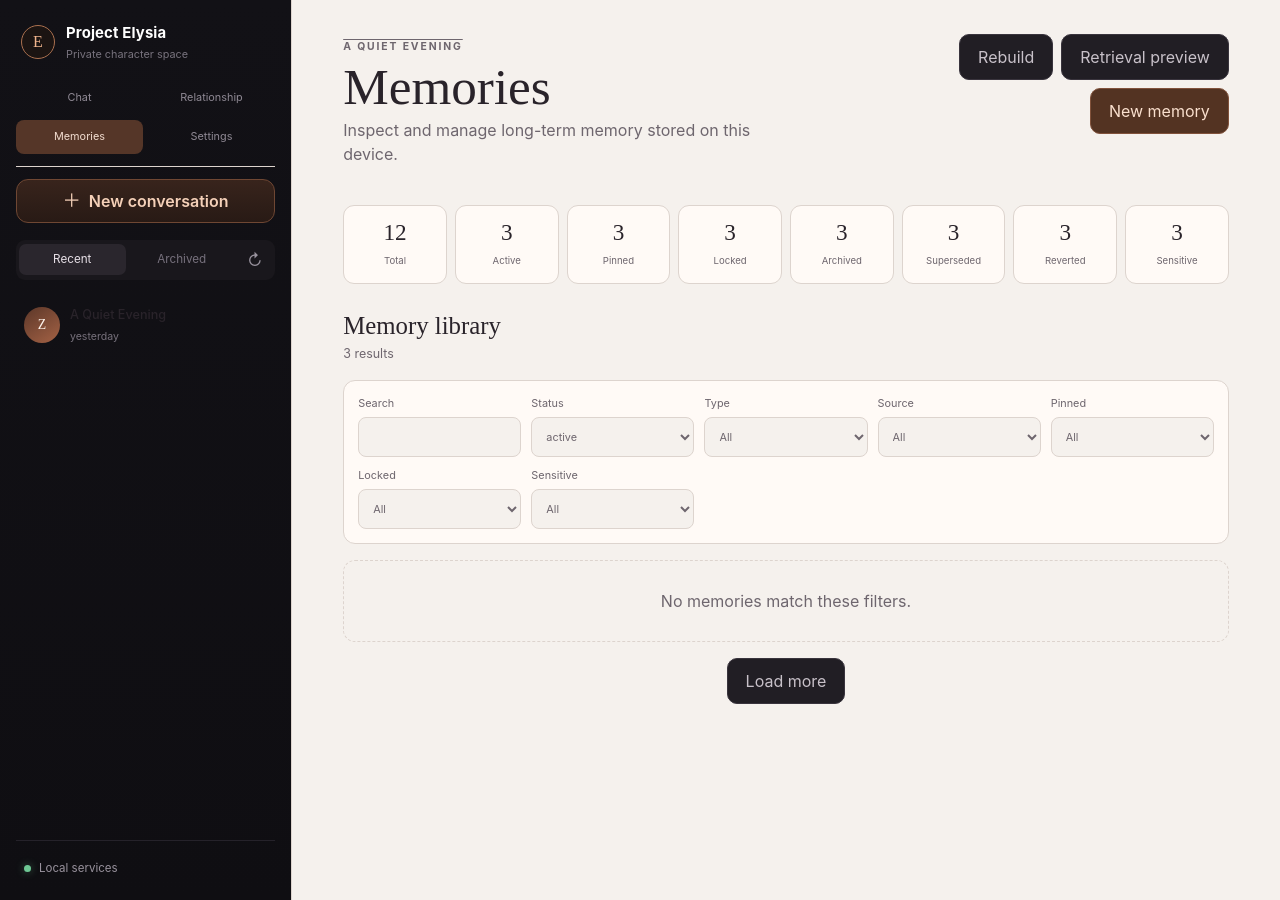
Test: Batch 7 dashboards › renders memory counts, filters, and manual creation form
Check: the heading "Memories" is shown, box [343,58,551,115]
Check: the dropdown labelled "Status" is shown, box [531,417,694,457]
What coordinates should you click on to do the following:
click the button "New memory"
I would click on:
 (1159, 111)
Its box is [1090,88,1229,134].
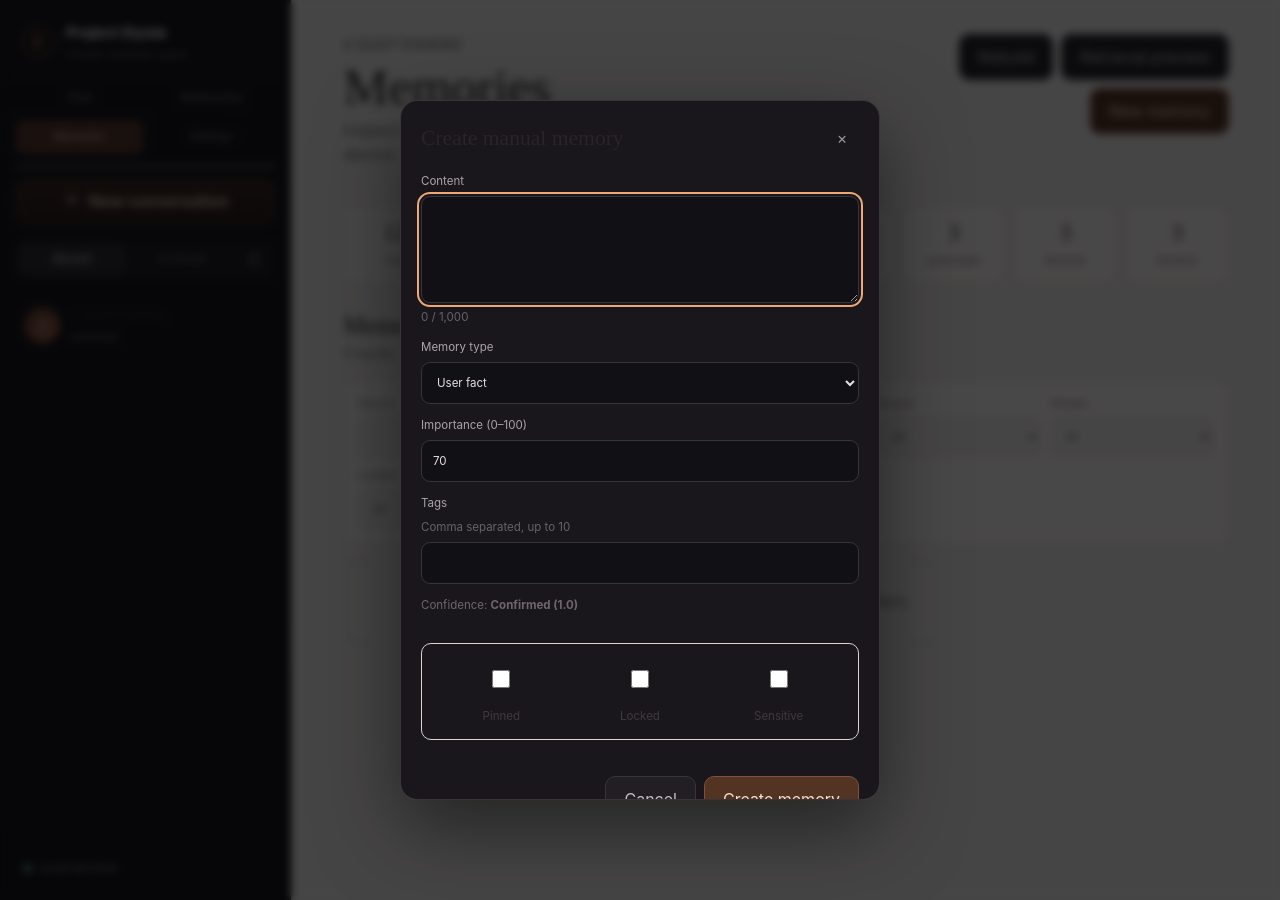
Check: the dialog "Create manual memory" is shown, box [400,100,880,800]
Check: the text "Confirmed (1.0)" is shown, box [491,598,578,612]
